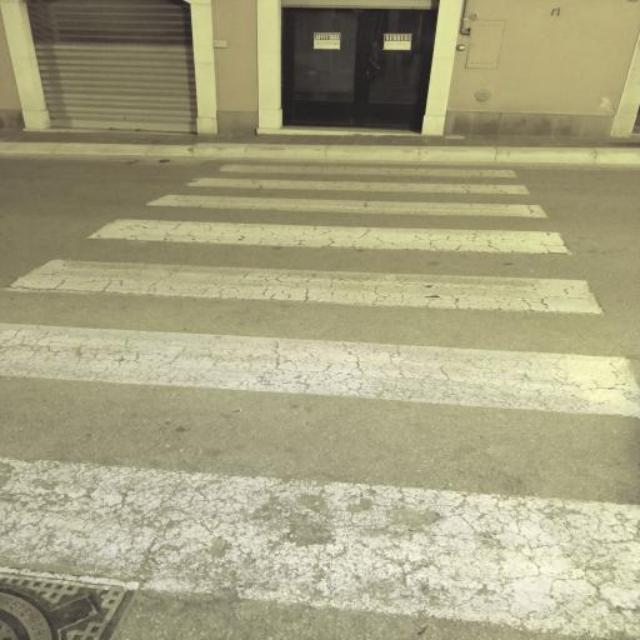sidewalk: (0, 153, 640, 640)
